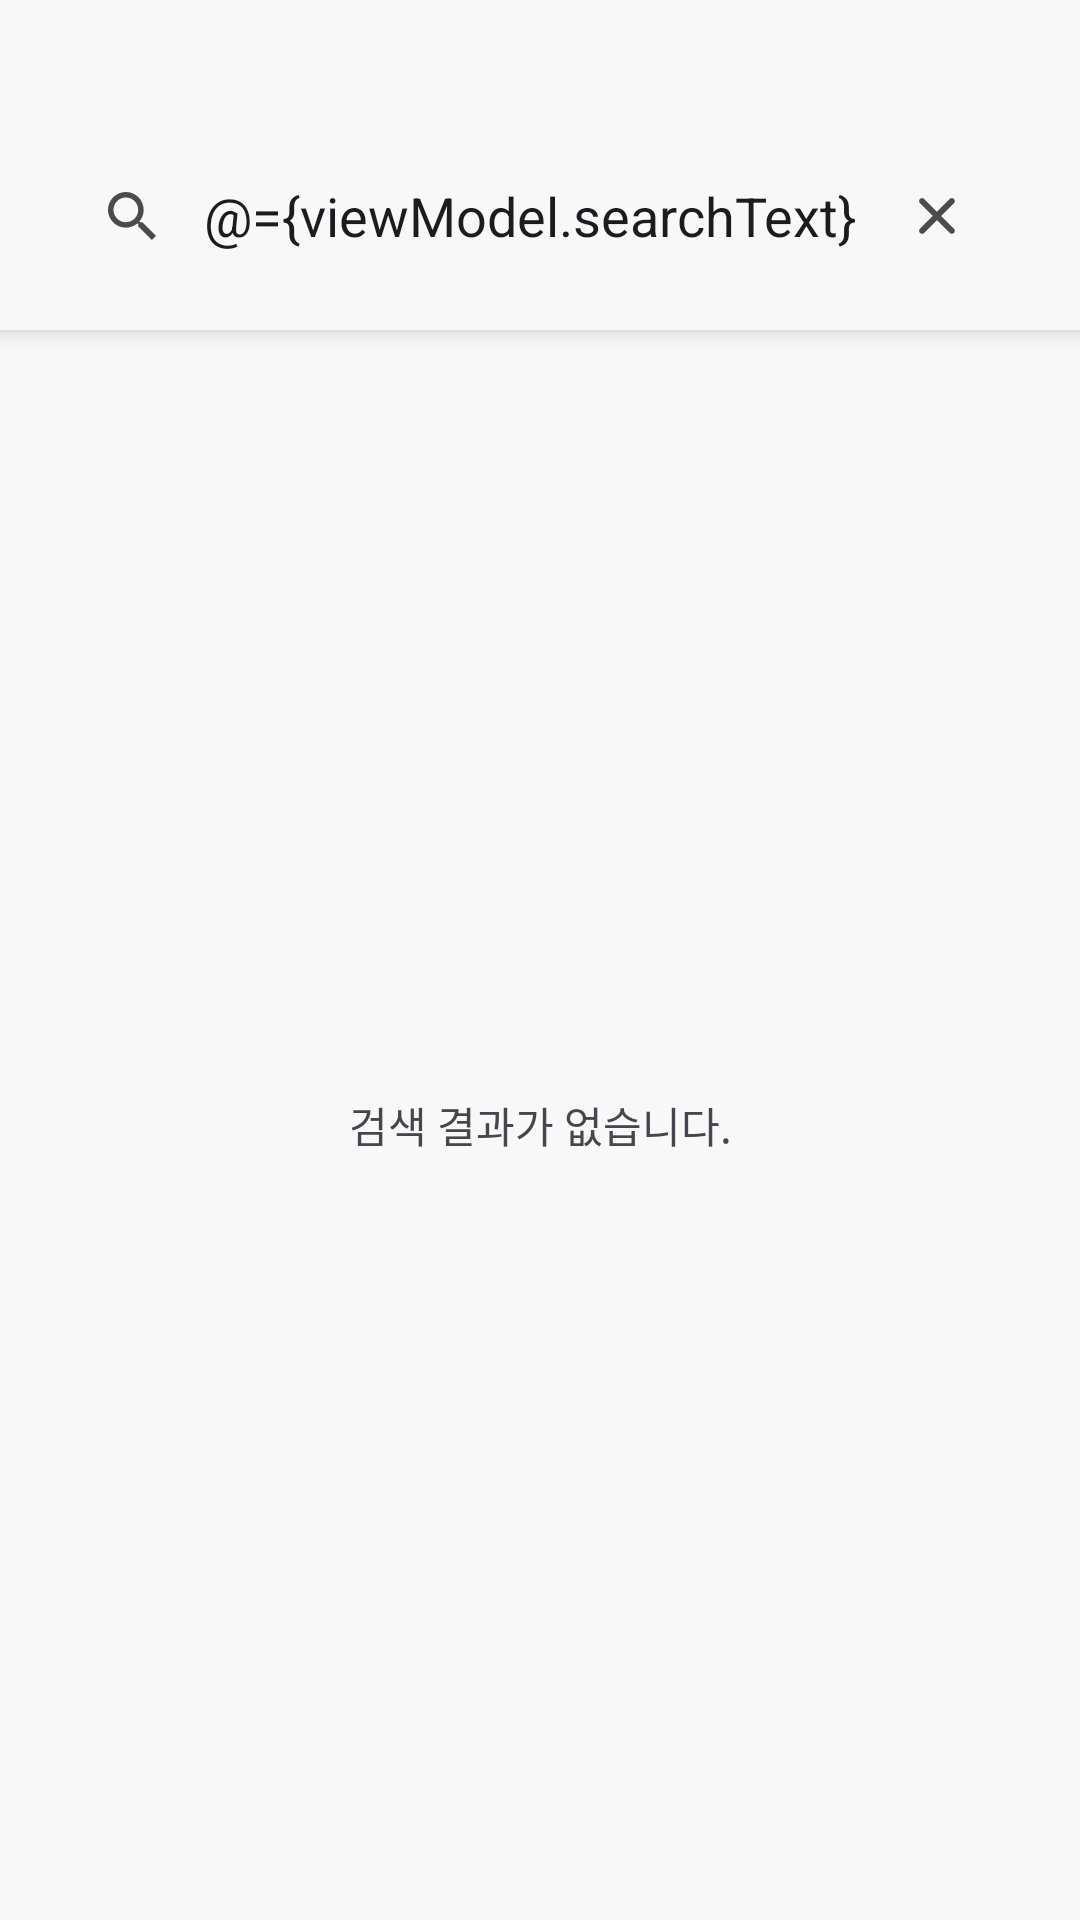

Icon click points for this 1080*1920 phone screenshot, format point (x, y):
cancel: point (937, 216)
